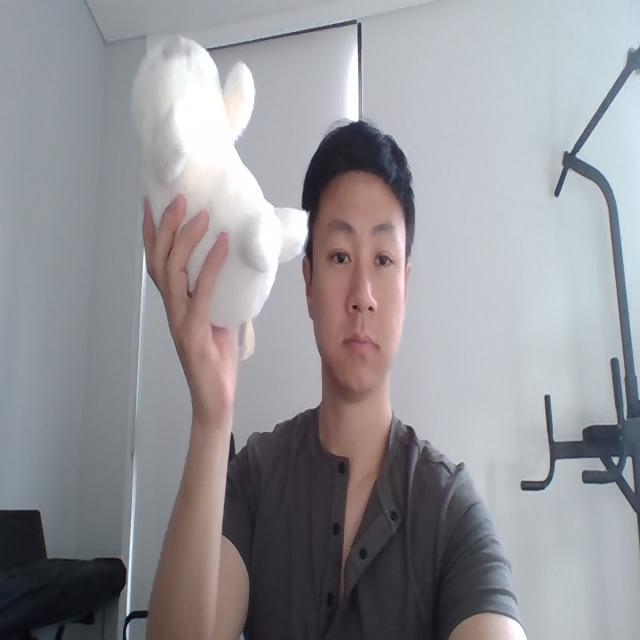seal_bb: (127, 33, 309, 328)
